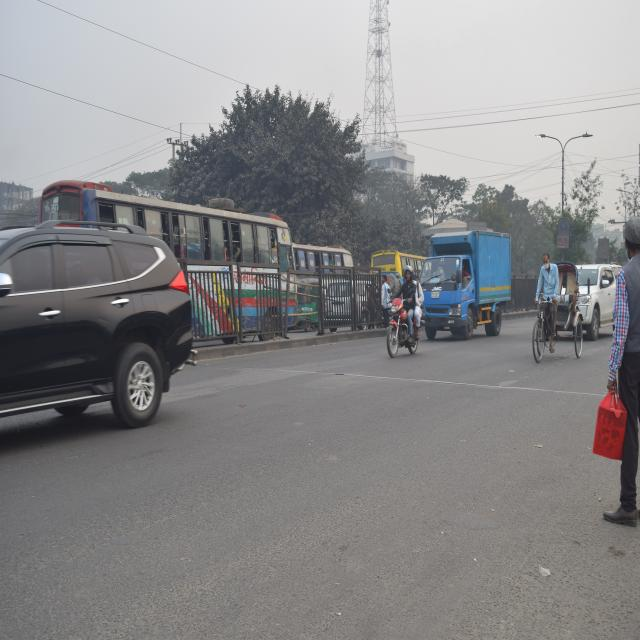bus: (38, 186, 297, 340), (291, 239, 349, 333), (372, 252, 420, 296)
car: (2, 230, 185, 422), (580, 260, 621, 333)
motorbike: (382, 261, 438, 379)
pickup-van: (416, 206, 522, 343)
